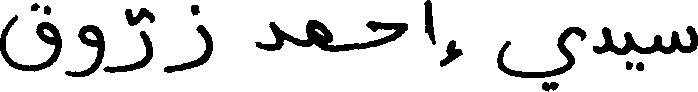X: (497, 22, 585, 91), (0, 0, 61, 76), (167, 0, 211, 77), (108, 3, 151, 77), (67, 20, 106, 81), (655, 21, 697, 58), (369, 16, 406, 52), (308, 15, 331, 56), (257, 17, 281, 55), (595, 22, 610, 58), (425, 0, 433, 49), (626, 27, 632, 74)
